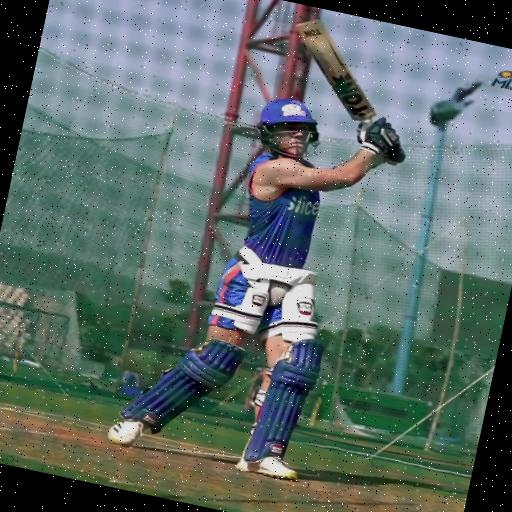Cricket bat: (296, 19, 375, 121)
